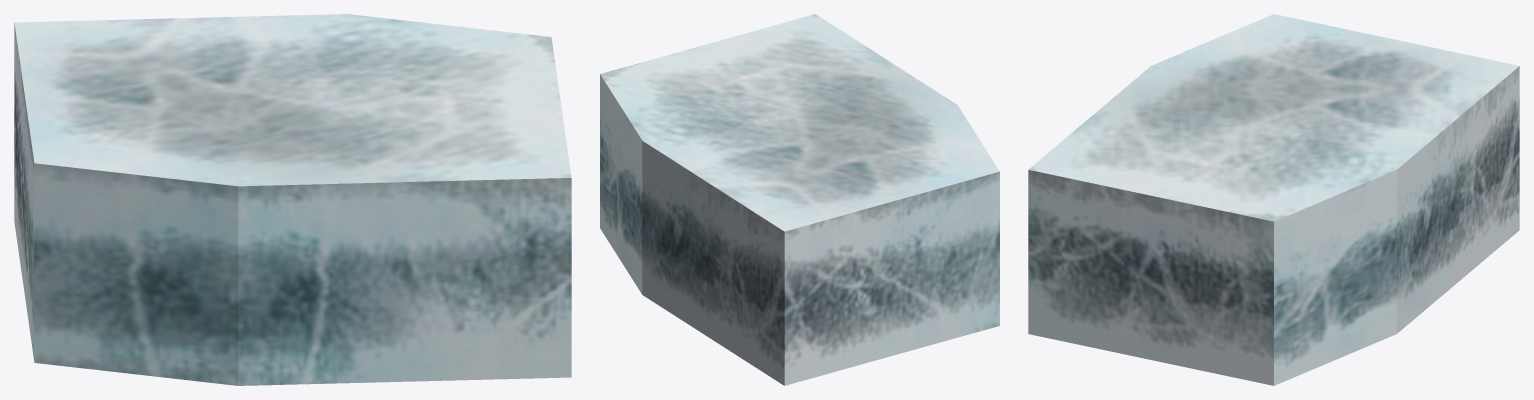
The model's file is iceberg_9.fbx.
The picture shows the model from 3 angles, left to right: view 1: azimuth 30°, elevation 25°; view 2: azimuth 150°, elevation 25°; view 3: azimuth 270°, elevation 25°; orthographic projection. The views are drawn at different scales.
Parts seen in each view (by area): view 1: pCylinder3; view 2: pCylinder3; view 3: pCylinder3.
Part boxes in pixels (x1=…): pCylinder3: x1=14, y1=14, x2=571, y2=385; pCylinder3: x1=600, y1=14, x2=999, y2=385; pCylinder3: x1=1028, y1=14, x2=1519, y2=385.
Size of the model in its own units: 4 by 1.48 by 4.
